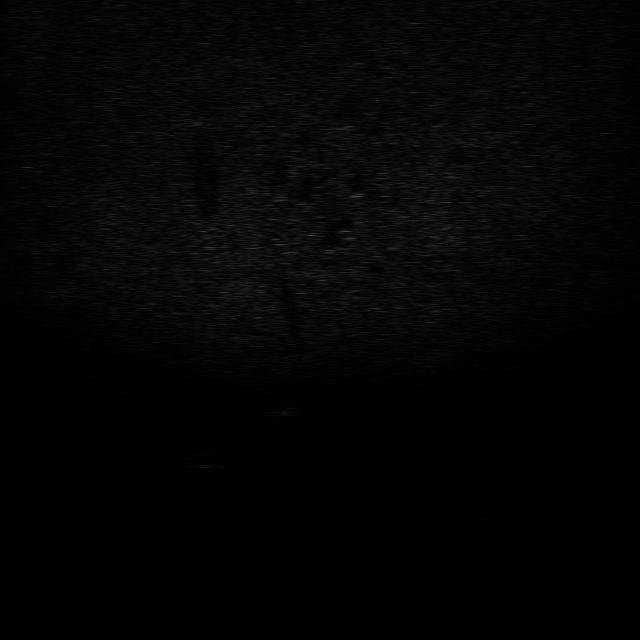ball: (185, 448, 226, 472)
human body: (256, 382, 310, 425)
